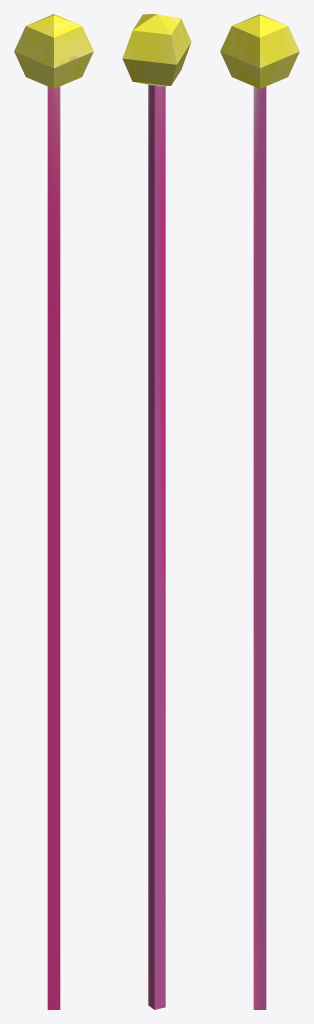
The picture shows the model from 3 angles, left to right: view 1: azimuth 90°, elevation 25°; view 2: azimuth 210°, elevation 25°; view 3: azimuth 270°, elevation 25°; orthographic projection.
Visible parts, largest first — view 1: Final; view 2: Final; view 3: Final.
Boxes of the visible parts, x1,y1,x2,y2 form: Final: (14, 14, 93, 1009); Final: (122, 14, 191, 1009); Final: (220, 14, 299, 1009).
Size of the model in its own units: 2 by 27.43 by 2.
